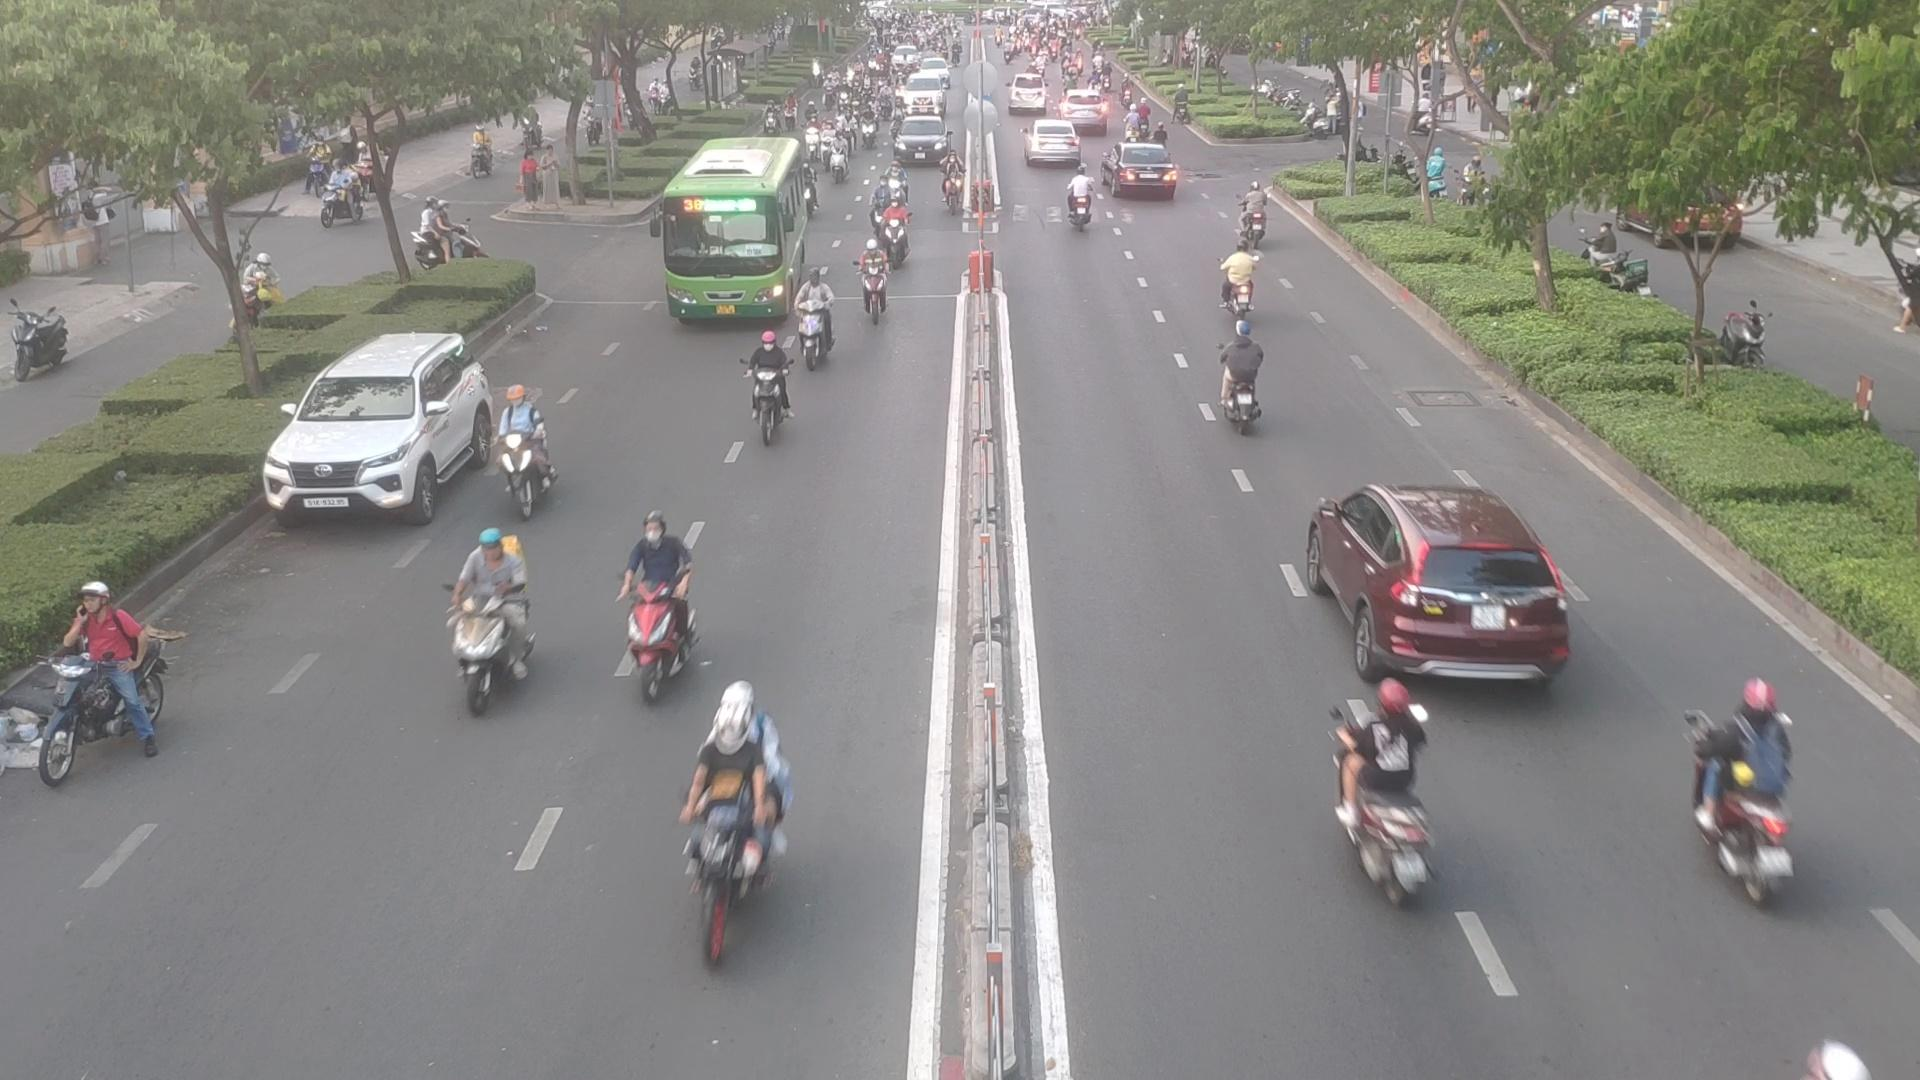bus: (645, 138, 803, 326)
car: (1294, 481, 1580, 684), (266, 331, 491, 527), (1100, 138, 1179, 198), (1025, 120, 1084, 166)
motorbike: (661, 713, 793, 959), (13, 587, 174, 769), (1684, 702, 1803, 905), (1319, 686, 1429, 899), (440, 529, 530, 703), (615, 517, 699, 688), (493, 386, 563, 521), (740, 334, 795, 440), (1218, 316, 1266, 436), (793, 273, 843, 367), (857, 237, 895, 338), (1221, 251, 1261, 315), (868, 204, 909, 266), (1234, 189, 1276, 248), (1058, 175, 1098, 231)
